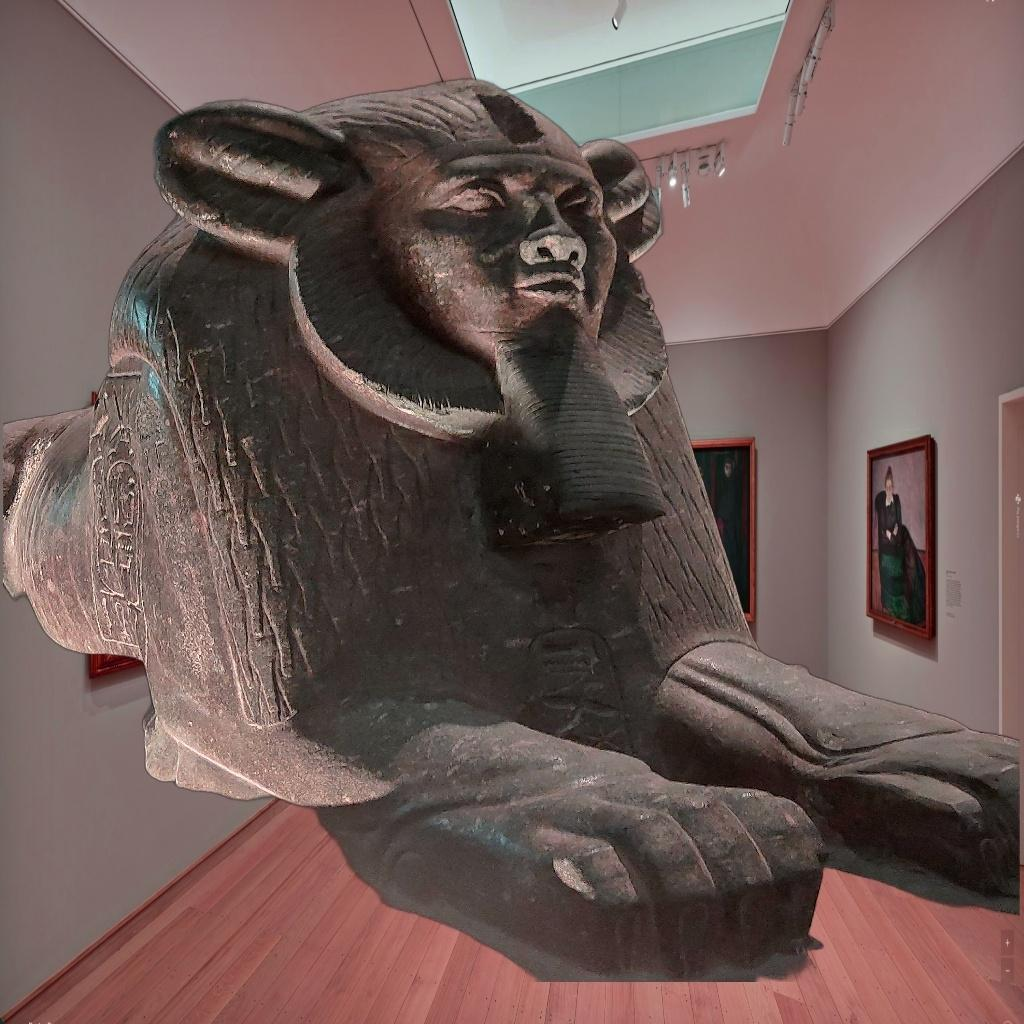Sphinx of Amenmhat III: (4, 74, 1020, 982)
